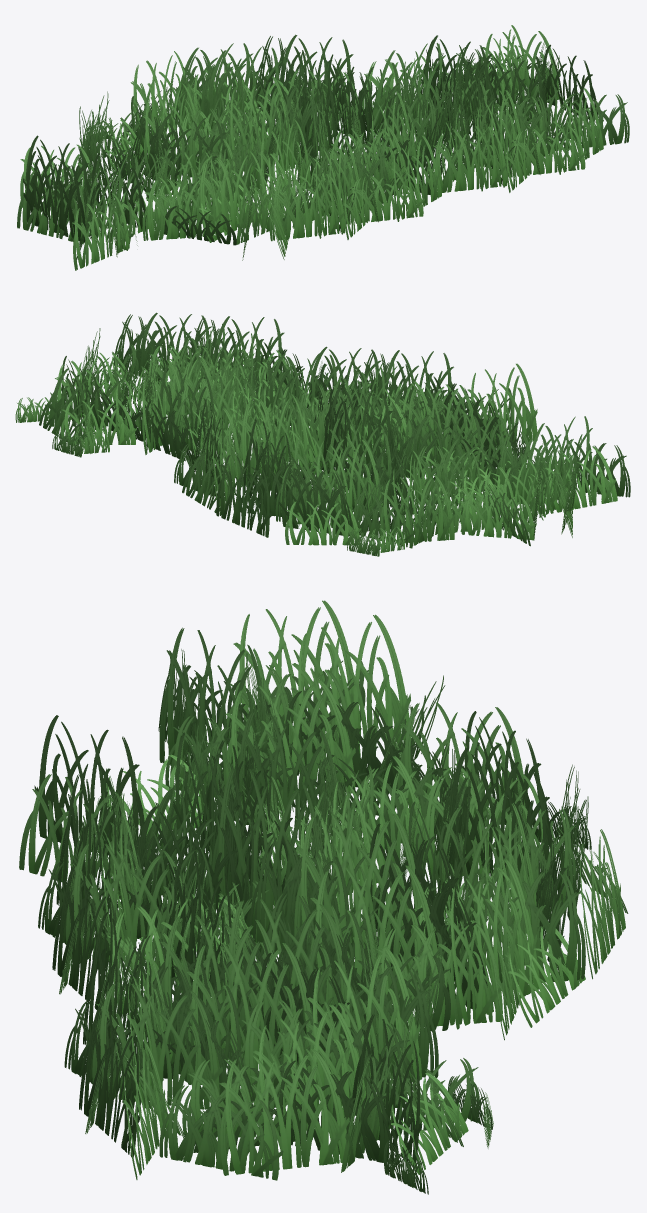
The model's file is Grass_BA_03.FBX.
3 renders of one model, top to bottom at view 1: azimuth 30°, elevation 25°; view 2: azimuth 150°, elevation 25°; view 3: azimuth 270°, elevation 25°, orthographic. The views are drawn at different scales.
Parts seen in each view (by area): view 1: Grass_BA_03; view 2: Grass_BA_03; view 3: Grass_BA_03.
Boxes of the visible parts, x1,y1,x2,y2 form: Grass_BA_03: [17, 25, 629, 270]; Grass_BA_03: [15, 312, 630, 556]; Grass_BA_03: [19, 600, 628, 1194].
Bounding box in the file's own units: 8.35 × 1.49 × 4.66.
